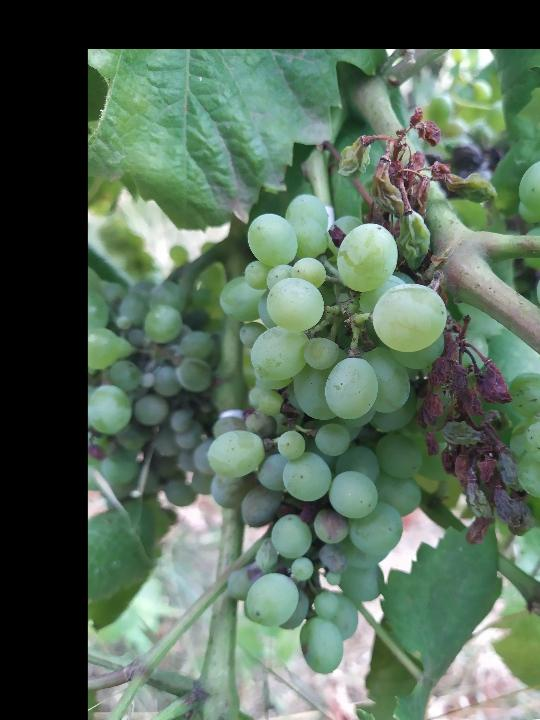grape: (205, 187, 529, 678)
